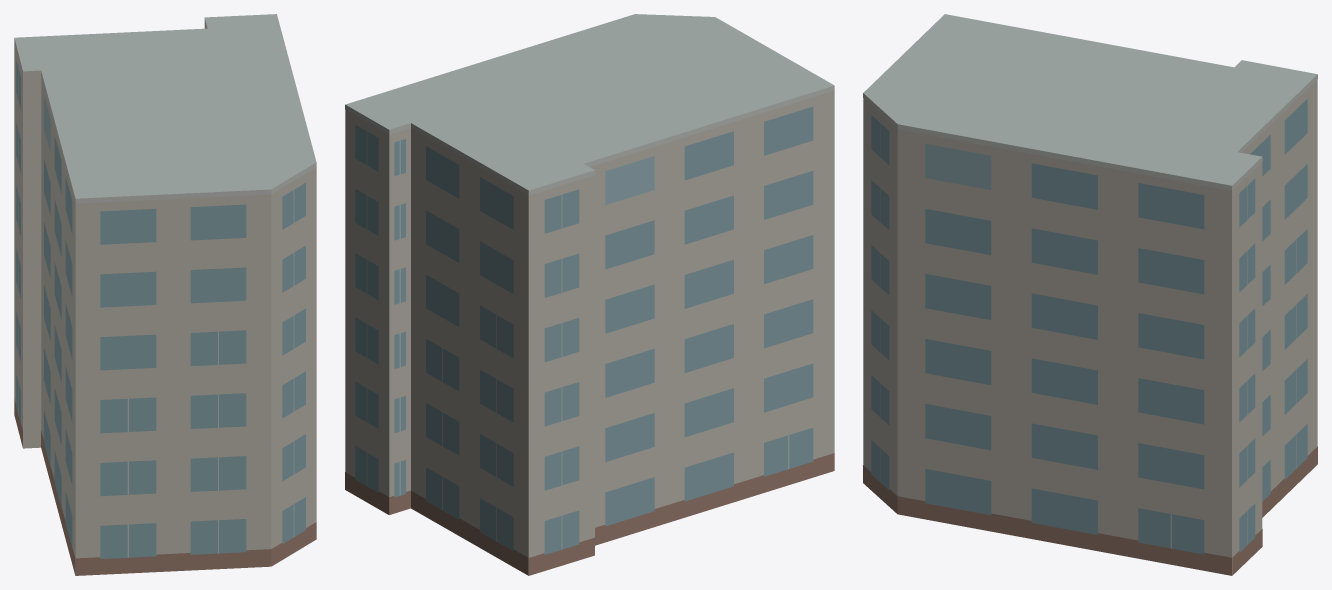
The model's file is survey-upis-32532169.glb.
3 views of the same model, side by side, from view 1: azimuth 30°, elevation 25°; view 2: azimuth 150°, elevation 25°; view 3: azimuth 270°, elevation 25° (orthographic). The views are drawn at different scales.
Visible parts, largest first — view 1: survey-upis-32532169.tmp; view 2: survey-upis-32532169.tmp; view 3: survey-upis-32532169.tmp.
Part boxes in pixels (x1=…): survey-upis-32532169.tmp: x1=14, y1=14, x2=316, y2=575; survey-upis-32532169.tmp: x1=345, y1=14, x2=834, y2=575; survey-upis-32532169.tmp: x1=863, y1=14, x2=1317, y2=575.
Size of the model in its own units: 17.57 by 18.6 by 19.65.
